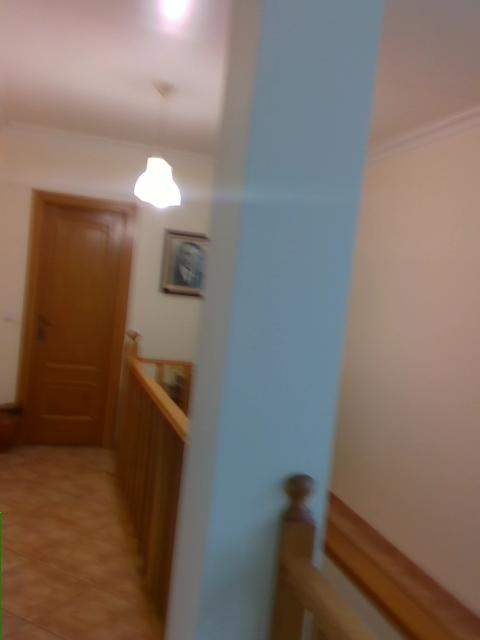door: (29, 201, 125, 451)
